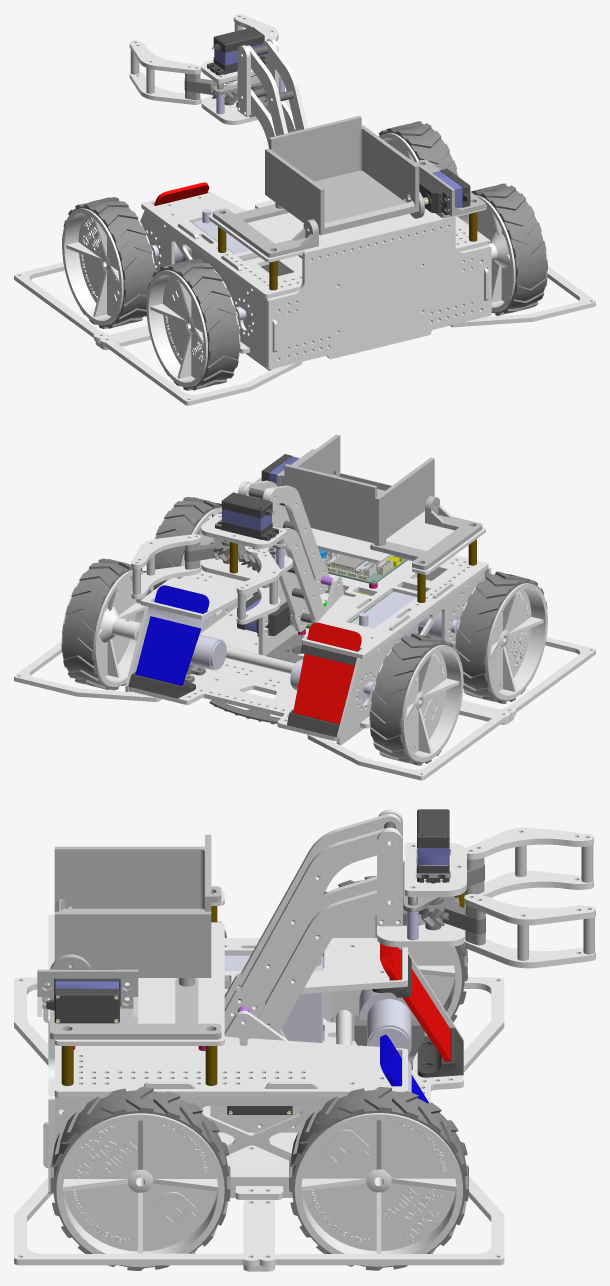
The model's file is argus-robot.glb.
3 renders of one model, top to bottom at view 1: azimuth 30°, elevation 25°; view 2: azimuth 150°, elevation 25°; view 3: azimuth 270°, elevation 25°, orthographic. The views are drawn at different scales.
Visible parts, largest first — view 1: NRL_Robot; view 2: NRL_Robot; view 3: NRL_Robot.
Part boxes in pixels (x1,y1,x2,y2): NRL_Robot: [14, 14, 595, 405]; NRL_Robot: [14, 434, 595, 780]; NRL_Robot: [14, 809, 595, 1271].
Bounding box in the file's own units: 0.0412 × 0.0226 × 0.0356.
4 materials, 4 textured.
